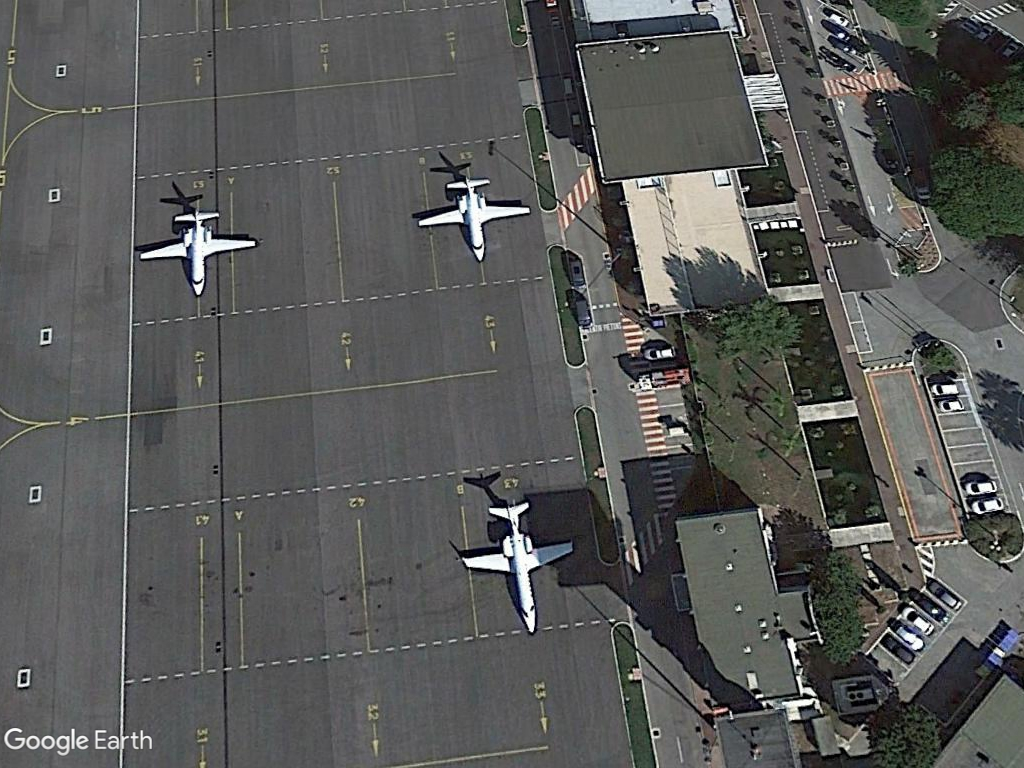car: (967, 497, 1008, 516), (960, 478, 1001, 495), (640, 343, 678, 361)
chartered: (453, 497, 578, 641), (142, 201, 256, 299), (412, 171, 531, 262)
